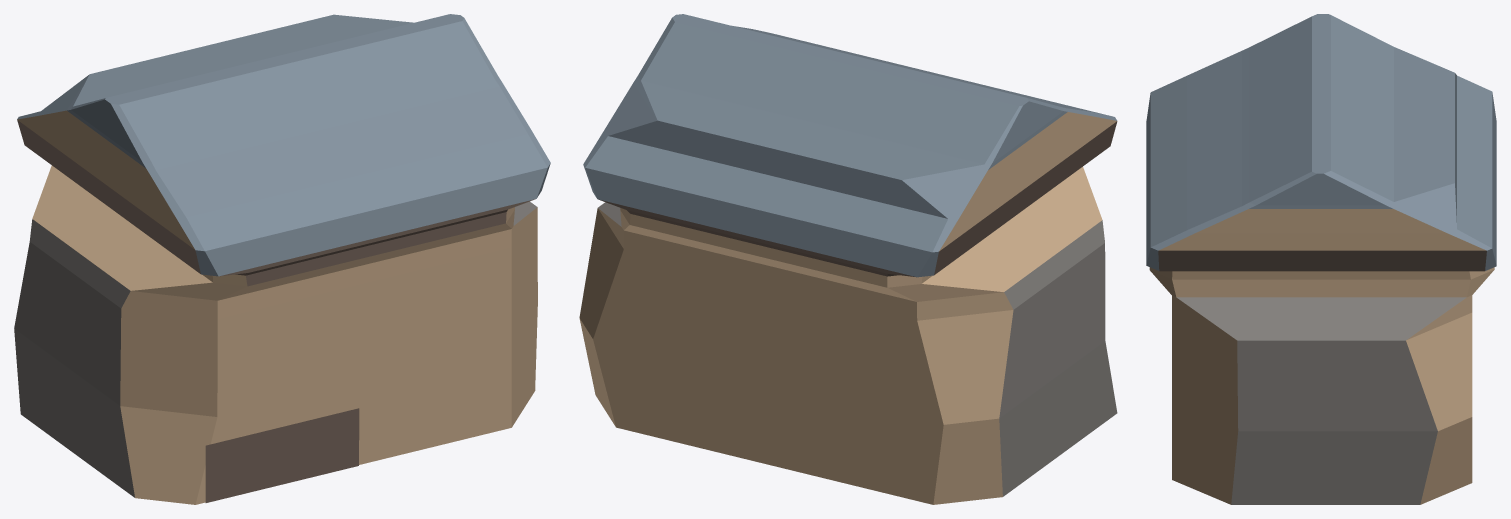
Rendered from loin.glb.
The picture shows the model from 3 angles, left to right: view 1: azimuth 30°, elevation 25°; view 2: azimuth 150°, elevation 25°; view 3: azimuth 270°, elevation 25°; orthographic projection. The views are drawn at different scales.
Parts seen in each view (by area): view 1: loin; view 2: loin; view 3: loin.
Part boxes in pixels (x1,y1,x2,y2): loin: [14, 14, 550, 504]; loin: [579, 14, 1117, 504]; loin: [1146, 14, 1496, 504].
Size of the model in its own units: 0.995 by 0.7857 by 0.7794.
